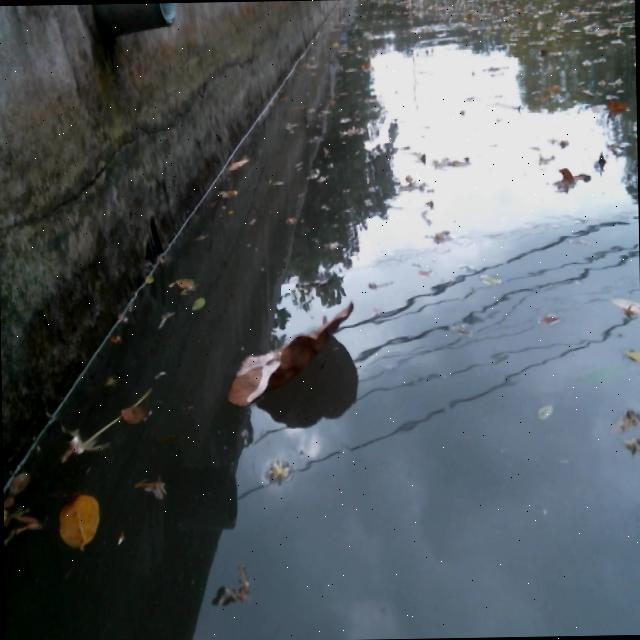Big-leaf: (219, 293, 362, 410)
Small-leaf: (54, 488, 105, 553), (3, 504, 50, 548), (604, 402, 640, 445), (551, 162, 593, 190), (609, 290, 640, 326), (132, 468, 165, 498), (117, 403, 151, 427), (530, 396, 557, 426), (168, 271, 199, 295), (6, 467, 33, 493), (225, 153, 251, 176), (214, 181, 242, 202), (622, 340, 640, 372), (187, 291, 210, 316), (474, 267, 502, 284), (602, 96, 628, 114), (593, 153, 609, 169)
